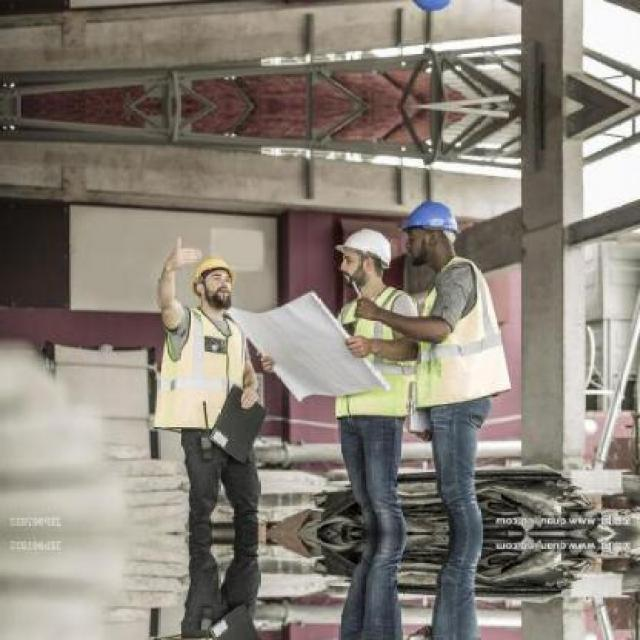Reflective-Jacket: (406, 259, 519, 423), (140, 307, 266, 447), (322, 280, 423, 426)
Safety-Helmet: (394, 193, 471, 247), (328, 222, 400, 273), (183, 242, 243, 296)
